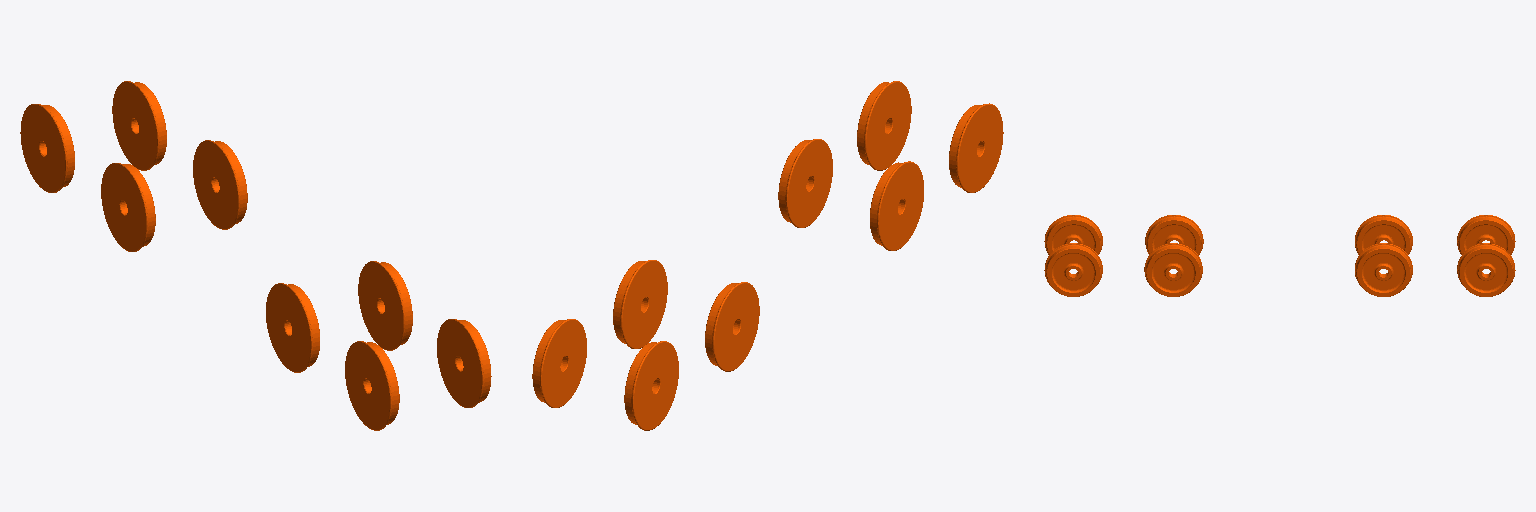
The robot description file, URDF, robot "gazebo_train":
<?xml version="1.0" ?>
<!-- =================================================================================== -->
<!-- |    This document was autogenerated by xacro from [local-path]/gazebo_train/install/gazebo_train_description/share/gazebo_train_description/urdf/gazebo_train.urdf.xacro | -->
<!-- |    EDITING THIS FILE BY HAND IS NOT RECOMMENDED                                 | -->
<!-- =================================================================================== -->
<robot name="gazebo_train">
    <!-- Init colour -->
    <material name="black">
        <color rgba="0.0 0.0 0.0 1.0"/>
    </material>
    <material name="dark">
        <color rgba="0.3 0.3 0.3 1.0"/>
    </material>
    <material name="light_black">
        <color rgba="0.4 0.4 0.4 1.0"/>
    </material>
    <material name="blue">
        <color rgba="0.0 0.0 0.8 1.0"/>
    </material>
    <material name="green">
        <color rgba="0.0 0.8 0.0 1.0"/>
    </material>
    <material name="grey">
        <color rgba="0.5 0.5 0.5 1.0"/>
    </material>
    <material name="orange">
        <color rgba="1.0 0.4235294117647059 0.0392156862745098 1.0"/>
    </material>
    <material name="brown">
        <color rgba="0.8705882352941177 0.8117647058823529 0.7647058823529411 1.0"/>
    </material>
    <material name="silver">
        <color rgba="0.7529411764705882 0.7529411764705882 0.7529411764705882 1.0"/>
    </material>
    <material name="red">
        <color rgba="0.8 0.0 0.0 1.0"/>
    </material>
    <material name="white">
        <color rgba="1.0 1.0 1.0 1.0"/>
    </material>
    
    <link name="base_footprint"/>
    <joint name="base_joint" type="fixed">
        <parent link="base_footprint"/>
        <child link="base_link"/>
        <origin rpy="0 0 3.141592653589793" xyz="0 0 0.3"/>  
    </joint>
    <link name="base_link">
        <visual>
            <origin rpy="0 0 3.141592653589793" xyz="0 0 0.25"/>
            <geometry>
                <mesh filename="package://gazebo_train_description/meshes/emma_base.stl" scale="0.001 0.001 0.001"/>
            </geometry>
            <material name="dark"/>
        </visual>
        <collision>
            <origin rpy="0 0 3.141592653589793" xyz="-0.10 0 0.07"/>
            <geometry>
                <mesh filename="package://gazebo_train_description/meshes/emma_base.stl" scale="0.001 0.001 0.001"/>
            </geometry>
        </collision>
        <inertial>
            <origin rpy="0 0 3.141592653589793" xyz="-0.10 0 0.07"/>
            <mass value="1"/>
            <inertia ixx="0.6" ixy="0.0" ixz="0.0" iyy="0.2" iyz="0.0" izz="0.6"/>
        </inertial>
    </link>

    <link name="laser_link">  
      <sensor name="hls_lfcd_lds" type="ray">
        <always_on>true</always_on>
        <visualize>false</visualize>
        <pose>0 0 0 0 0 0</pose>
        <update_rate>10</update_rate>
        <ray>
          <scan>
            <horizontal>
              <samples>1024</samples>
              <resolution>1.000000</resolution>
              <min_angle>0.000000</min_angle>
              <max_angle>6.280000</max_angle>
            </horizontal>
          </scan>
          <range>
            <min>0.5</min>
            <max>120</max>
            <resolution>0.0010000</resolution>
          </range>
          <noise>
            <type>gaussian</type>
            <mean>0.0</mean>
            <stddev>0.01</stddev>
          </noise>
        </ray>
        <plugin name="train_laserscan" filename="libgazebo_ros_ray_sensor.so">
          <ros>
            <remapping>~/out:=scan</remapping>
          </ros>
          <output_type>sensor_msgs/LaserScan</output_type>
          <frame_name>base_footprint</frame_name>
        </plugin>
      </sensor>
    </link>
    
    <joint name="lidar_joint" type="fixed">
        <parent link="base_link"/>
        <child link="laser_link"/>
        <origin rpy="0 0 3.14159" xyz="0 0.9 0.88"/>
        <axis xyz="0 0 1"/>
    </joint>

    <link name="camera_link">
      <visual>
        <origin xyz="0 0 0" rpy="0 0 0"/>
        <geometry>
          <mesh filename="package://gazebo_train_description/meshes/webcam.stl" scale="0.0006 0.0006 0.0006"/>
        </geometry>
        <material name="black"/>
      </visual>
      <inertial>
        <origin xyz="0 0 0 " />
        <mass value="0.001" />
        <inertia ixx="0.001" ixy="0.0" ixz="0.0" iyy="0.001" iyz="0.0" izz="0.001" />
      </inertial>
    </link>
    <joint name="camera_base_joint" type="fixed">
      <parent link="base_link"/>
      <child link="camera_link"/>
      <origin xyz="0 1.0 0.874" rpy="0 0 0"/>
    </joint>
    <link name="camera_lens_link"/>
    <joint name="camera_lens_joint" type="fixed">
      <parent link="camera_link"/>
      <child link="camera_lens_link"/>
      <origin xyz="0.1 0 0" rpy="-1.57 0 0 "/>
    </joint>

    <link name="imu_link"/>
    <joint name="imu_joint" type="fixed">
        <parent link="base_link"/>
        <child link="imu_link"/>
        <origin xyz="0 0 0" rpy="0 0 0"/>
    </joint>

    <!-- Left Wheel -->
    <link name="wheel_left_link">
        <visual>
            <origin rpy="1.5707963267948966 0 0" xyz="0 0 0"/>
            <geometry>
                <mesh filename="package://gazebo_train_description/meshes/rad.stl" scale="0.001 0.001 0.001"/>
            </geometry>
            <material name="orange"/>
        </visual>
        <inertial>
            <origin xyz="0 0 0"/>
            <mass value="0.01"/>
            <inertia ixx="0.0000029925" ixy="0.0" ixz="0.0" iyy="0.0000029925" iyz="0.0" izz="0.000005445"/>
        </inertial>
        <collision>
            <origin rpy="-1.5708 0 0" xyz="0 0 0"/>
            <geometry>
                <mesh filename="package://gazebo_train_description/meshes/rad.stl" scale="0.001 0.001 0.001"/>
            </geometry>
        </collision>
    </link>
    <joint name="wheel_left_joint" type="continuous">
        <parent link="base_link"/>
        <child link="wheel_left_link"/>
        <origin rpy="-1.5707963267948966 0 0" xyz="-0.13 -0.405 0"/>
        <axis xyz="1 0 0"/>
    </joint>

    <!-- Left Wheel 2 -->
    <link name="wheel_left2_link">
        <visual>
            <origin rpy="1.5707963267948966 0 0" xyz="0 0 0"/>
            <geometry>
                <mesh filename="package://gazebo_train_description/meshes/rad.stl" scale="0.001 0.001 0.001"/>
            </geometry>
            <material name="orange"/>
        </visual>
        <inertial>
            <origin xyz="0 0 0"/>
            <mass value="0.01"/>
            <inertia ixx="0.0000029925" ixy="0.0" ixz="0.0" iyy="0.0000029925" iyz="0.0" izz="0.000005445"/>
        </inertial>
        <collision>
            <origin rpy="-1.5708 0 0" xyz="0 0 0"/>
            <geometry>
                <mesh filename="package://gazebo_train_description/meshes/rad.stl" scale="0.001 0.001 0.001"/>
            </geometry>
        </collision>
    </link>
    <joint name="wheel_left2_joint" type="continuous">
        <parent link="base_link"/>
        <child link="wheel_left2_link"/>
        <origin rpy="-1.5707963267948966 0 0" xyz="-0.13 0.405 0"/>
        <axis xyz="1 0 0"/>
    </joint>


    <!-- Left Wheel 3 -->
    <link name="wheel_left3_link">
        <visual>
            <origin rpy="1.5707963267948966 0 0" xyz="0 0 0"/>
            <geometry>
                <mesh filename="package://gazebo_train_description/meshes/rad.stl" scale="0.001 0.001 0.001"/>
            </geometry>
            <material name="orange"/>
        </visual>
        <inertial>
            <origin xyz="0 0 0"/>
            <mass value="0.01"/>
            <inertia ixx="0.0000029925" ixy="0.0" ixz="0.0" iyy="0.0000029925" iyz="0.0" izz="0.000005445"/>
        </inertial>
        <collision>
            <origin rpy="-1.5708 0 0" xyz="0 0 0"/>
            <geometry>
                <mesh filename="package://gazebo_train_description/meshes/rad.stl" scale="0.001 0.001 0.001"/>
            </geometry>
        </collision>
    </link>
    <joint name="wheel_left3_joint" type="continuous">
        <parent link="base_link"/>
        <child link="wheel_left3_link"/>
        <origin rpy="-1.5707963267948966 0 0" xyz="-0.13 -0.8 0"/>
        <axis xyz="1 0 0"/>
    </joint>

    <!-- Left Wheel 4 -->
    <link name="wheel_left4_link">
        <visual>
            <origin rpy="1.5707963267948966 0 0" xyz="0 0 0"/>
            <geometry>
                <mesh filename="package://gazebo_train_description/meshes/rad.stl" scale="0.001 0.001 0.001"/>
            </geometry>
            <material name="orange"/>
        </visual>
        <inertial>
            <origin xyz="0 0 0"/>
            <mass value="0.01"/>
            <inertia ixx="0.0000029925" ixy="0.0" ixz="0.0" iyy="0.0000029925" iyz="0.0" izz="0.000005445"/>
        </inertial>
        <collision>
            <origin rpy="-1.5708 0 0" xyz="0 0 0"/>
            <geometry>
                <mesh filename="package://gazebo_train_description/meshes/rad.stl" scale="0.001 0.001 0.001"/>
            </geometry>
        </collision>
    </link>
    <joint name="wheel_left4_joint" type="continuous">
        <parent link="base_link"/>
        <child link="wheel_left4_link"/>
        <origin rpy="-1.5707963267948966 0 0" xyz="-0.13 0.79 0"/>
        <axis xyz="1 0 0"/>
    </joint>

    <!-- Right Wheel -->
    <link name="wheel_right_link">
        <visual>
            <origin rpy="1.5707963267948966 0 0" xyz="0 0 0"/>
            <geometry>
                <mesh filename="package://gazebo_train_description/meshes/rad.stl" scale="0.001 0.001 0.001"/>
            </geometry>
            <material name="orange"/>
        </visual>
        <inertial>
            <origin xyz="0 0 0"/>
            <mass value="0.01"/>
            <inertia ixx="0.0000029925" ixy="0.0" ixz="0.0" iyy="0.0000029925" iyz="0.0" izz="0.000005445"/>
        </inertial>
        <collision>
            <origin rpy="-1.5708 0 0" xyz="0 0 0"/>
            <geometry>
                <mesh filename="package://gazebo_train_description/meshes/rad.stl" scale="0.001 0.001 0.001"/>
            </geometry>
        </collision>
    </link>
    <joint name="wheel_right_joint" type="continuous">
        <parent link="base_link"/>
        <child link="wheel_right_link"/>
        <origin rpy="-1.5707963267948966 0 0" xyz="0.13 -0.405 0"/>
        <axis xyz="-1 0 0"/>
    </joint>


    <!-- Right Wheel 2 -->
    <link name="wheel_right2_link">
        <visual>
            <origin rpy="1.5707963267948966 0 0" xyz=" 0 0 0"/>
            <geometry>
                <mesh filename="package://gazebo_train_description/meshes/rad.stl" scale="0.001 0.001 0.001"/>
            </geometry>
            <material name="orange"/>
        </visual>
        <inertial>
            <origin xyz="0 0 0"/>
            <mass value="0.01"/>
            <inertia ixx="0.0000029925" ixy="0.0" ixz="0.0" iyy="0.0000029925" iyz="0.0" izz="0.000005445"/>
        </inertial>
        <collision>
            <origin rpy="-1.5708 0 0" xyz="0 0 0"/>
            <geometry>
                <mesh filename="package://gazebo_train_description/meshes/rad.stl" scale="0.001 0.001 0.001"/>
            </geometry>
        </collision>
    </link>
    <joint name="wheel_right2_joint" type="continuous">
        <parent link="base_link"/>
        <child link="wheel_right2_link"/>
        <origin rpy="-1.5707963267948966 0 0" xyz="0.13 0.402 0"/>
        <axis xyz="-1 0 0"/>
    </joint>

    <!-- Right Wheel 3 -->
    <link name="wheel_right3_link">
        <visual>
            <origin rpy="1.5707963267948966 0 0" xyz="0 0 0"/>
            <geometry>
                <mesh filename="package://gazebo_train_description/meshes/rad.stl" scale="0.001 0.001 0.001"/>
            </geometry>
            <material name="orange"/>
        </visual>
        <inertial>
            <origin xyz="0 0 0"/>
            <mass value="0.01"/>
            <inertia ixx="0.0000029925" ixy="0.0" ixz="0.0" iyy="0.0000029925" iyz="0.0" izz="0.000005445"/>
        </inertial>
        <collision>
            <origin rpy="-1.5708 0 0" xyz="0 0 0"/>
            <geometry>
                <mesh filename="package://gazebo_train_description/meshes/rad.stl" scale="0.001 0.001 0.001"/>
            </geometry>
        </collision>
    </link>
    <joint name="wheel_right3_joint" type="continuous">
        <parent link="base_link"/>
        <child link="wheel_right3_link"/>
        <origin rpy="-1.5707963267948966 0 0" xyz="0.13 -0.8 0"/>
        <axis xyz="-1 0 0"/>
    </joint>

    <!-- Right Wheel 4 -->
    <link name="wheel_right4_link">
        <visual>
            <origin rpy="1.5707963267948966 0 0" xyz="0 0 0"/>
            <geometry>
                <mesh filename="package://gazebo_train_description/meshes/rad.stl" scale="0.001 0.001 0.001"/>
            </geometry>
            <material name="orange"/>
        </visual>
        <inertial>
            <origin xyz="0 0 0"/>
            <mass value="0.01"/>
            <inertia ixx="0.0000029925" ixy="0.0" ixz="0.0" iyy="0.0000029925" iyz="0.0" izz="0.000005445"/>
        </inertial>
        <collision>
            <origin rpy="-1.5708 0 0" xyz="0 0 0"/>
            <geometry>
                <mesh filename="package://gazebo_train_description/meshes/rad.stl" scale="0.001 0.001 0.001"/>
            </geometry>
        </collision>
    </link>
    <joint name="wheel_right4_joint" type="continuous">
        <parent link="base_link"/>
        <child link="wheel_right4_link"/>
        <origin rpy="-1.5707963267948966 0 0" xyz="0.13 0.79 0"/>
        <axis xyz="-1 0 0"/>
    </joint>

</robot>

--- Facts derived from the render (not from the file) ---
Views: 3 orthographic renders of the robot side by side, from view 1: azimuth 30°, elevation 25°; view 2: azimuth 150°, elevation 25°; view 3: azimuth 270°, elevation 25°.
Model gazebo_train with 14 links and 13 joints (8 continuous, 5 fixed), rooted at base_footprint, posed all joints at 0.
Visible links, largest first — view 1: wheel_left_link, wheel_left2_link, wheel_right4_link, wheel_right_link, wheel_left3_link, wheel_right2_link, wheel_right3_link, wheel_left4_link; view 2: wheel_left_link, wheel_right3_link, wheel_right_link, wheel_left4_link, wheel_right2_link, wheel_left2_link, wheel_right4_link, wheel_left3_link; view 3: wheel_left_link, wheel_left2_link, wheel_left3_link, wheel_left4_link, wheel_right2_link, wheel_right4_link, wheel_right3_link, wheel_right_link.
Boxes of the visible links, <box> form: wheel_left_link: <box>193,140,247,229</box>; wheel_left2_link: <box>358,261,412,350</box>; wheel_right4_link: <box>345,341,399,430</box>; wheel_right_link: <box>101,163,155,251</box>; wheel_left3_link: <box>112,81,166,170</box>; wheel_right2_link: <box>266,283,319,372</box>; wheel_right3_link: <box>20,104,74,192</box>; wheel_left4_link: <box>437,319,491,407</box>; wheel_left_link: <box>613,260,667,348</box>; wheel_right3_link: <box>624,341,678,430</box>; wheel_right_link: <box>705,282,759,371</box>; wheel_left4_link: <box>857,81,911,170</box>; wheel_right2_link: <box>870,161,923,250</box>; wheel_left2_link: <box>778,139,832,227</box>; wheel_right4_link: <box>949,103,1003,192</box>; wheel_left3_link: <box>532,319,586,407</box>; wheel_left_link: <box>1355,243,1412,296</box>; wheel_left2_link: <box>1144,243,1202,296</box>; wheel_left3_link: <box>1457,243,1515,296</box>; wheel_left4_link: <box>1044,243,1102,296</box>; wheel_right2_link: <box>1145,215,1203,255</box>; wheel_right4_link: <box>1044,215,1102,254</box>; wheel_right3_link: <box>1457,215,1515,254</box>; wheel_right_link: <box>1355,215,1412,254</box>.
Size in the robot's own frame: 0.295 by 1.82 by 0.2254 metres.
8 mesh visuals loaded from 3 distinct referenced files (1 binary STL); not drawn: 2 (reference not matched to a file when rendering).
